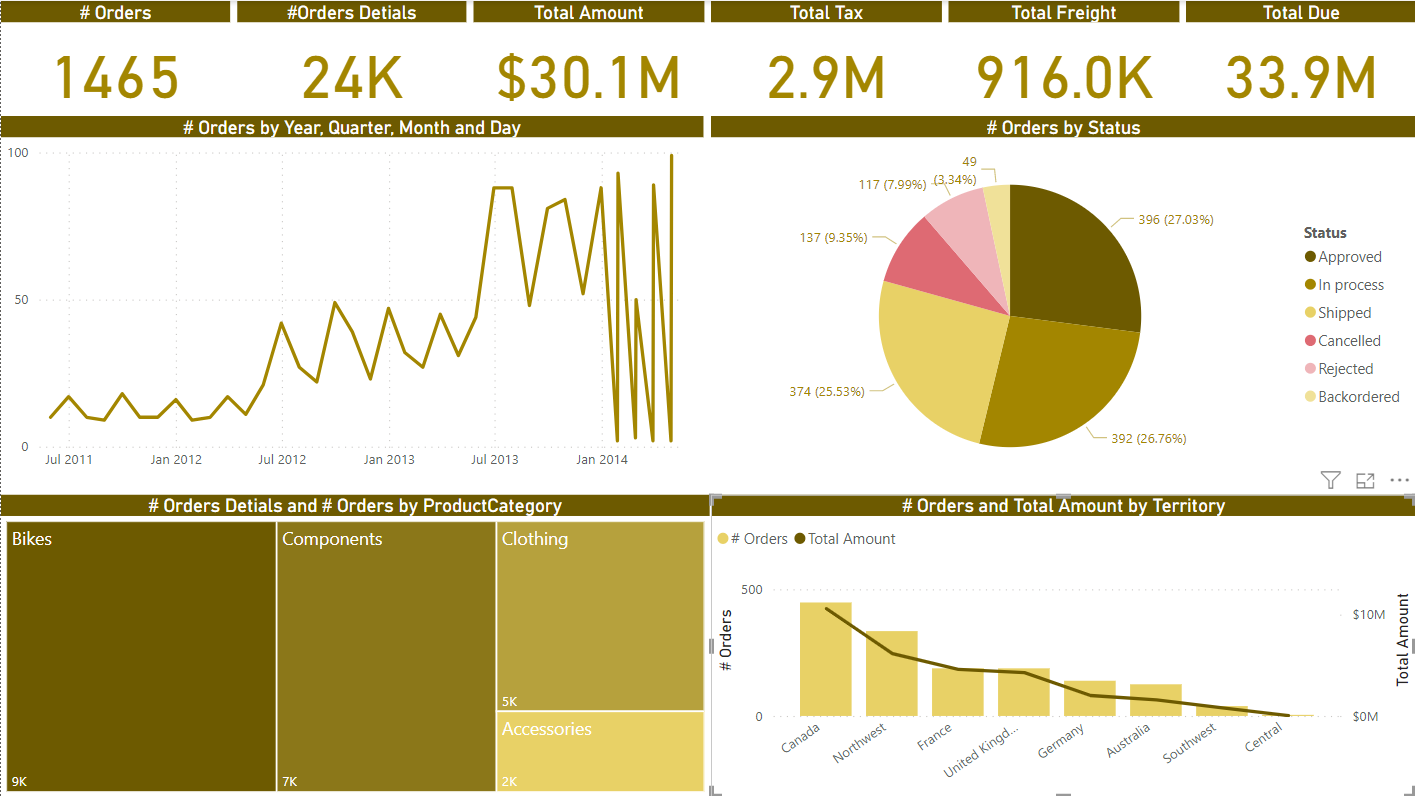

The dashboard page shown, as its layout file describes it:
{"tool":"powerbi","page":{"name":"Overview","canvas":[1280,720],"ordinal":0},"visuals":[{"type":"card","title":"Total Tax","fields":{"Values":["Mesures.Total Tax"]},"box":[641.8,0,208.7,104.4],"z":0},{"type":"card","title":"Total Freight","fields":{"Values":["Mesures.Total Freight"]},"box":[856.7,0,208.7,104.4],"z":1000},{"type":"card","title":"Total Due","fields":{"Values":["Mesures.Total Due"]},"box":[1071.3,0,208.7,104.4],"z":2000},{"type":"card","title":"Total Amount","fields":{"Values":["Mesures.Total Amount"]},"box":[426.9,0,208.7,104.4],"z":3000},{"type":"card","title":"#Orders Detials","fields":{"Values":["Mesures.# Orders Detials"]},"box":[213.4,0,207.3,104.4],"z":4000},{"type":"card","title":"# Orders","fields":{"Values":["Mesures.# Orders"]},"box":[0,0,207.3,104.4],"z":5000},{"type":"lineChart","fields":{"Y":["Mesures.# Orders"],"Category":["Sales.OrderDate.Variation.Date Hierarchy.Year","Sales.OrderDate.Variation.Date Hierarchy.Quarter","Sales.OrderDate.Variation.Date Hierarchy.Month","Sales.OrderDate.Variation.Date Hierarchy.Day"]},"box":[0,104.4,635,329.3],"z":5001},{"type":"treemap","fields":{"Values":["Mesures.# Orders Detials"],"Group":["Sales.Product Hierarchy.ProductCategory","Sales.Product Hierarchy.ProductSubCategory","Sales.Product Hierarchy.Product"]},"box":[0,446.9,640.9,273.4],"z":5002},{"type":"pieChart","fields":{"Category":["Sales.Status"],"Y":["Mesures.# Orders"]},"box":[642.4,104.4,637.9,342.5],"z":5003},{"type":"lineStackedColumnComboChart","fields":{"Category":["Sales.Territory"],"Y":["Mesures.# Orders"],"Y2":["Mesures.Total Amount"]},"box":[642,447,638,273],"z":5004}]}

Visuals, with their boxes in screenshot pixels (x1, y1, x2, y2), scaled from the page's 1280x720 canvas onto the 1415x796 screenshot:
"Total Tax" card: locate(709, 0, 940, 115)
"Total Freight" card: locate(947, 0, 1178, 115)
"Total Due" card: locate(1184, 0, 1414, 115)
"Total Amount" card: locate(472, 0, 703, 115)
"#Orders Detials" card: locate(236, 0, 465, 115)
"# Orders" card: locate(0, 0, 229, 115)
lineChart - Mesures.# Orders x Sales.OrderDate.Variation.Date Hierarchy.Year: locate(0, 115, 702, 479)
treemap - Mesures.# Orders Detials x Sales.Product Hierarchy.ProductCategory: locate(0, 494, 708, 795)
pieChart - Sales.Status x Mesures.# Orders: locate(710, 115, 1414, 494)
lineStackedColumnComboChart - Sales.Territory x Mesures.# Orders: locate(710, 494, 1414, 795)
